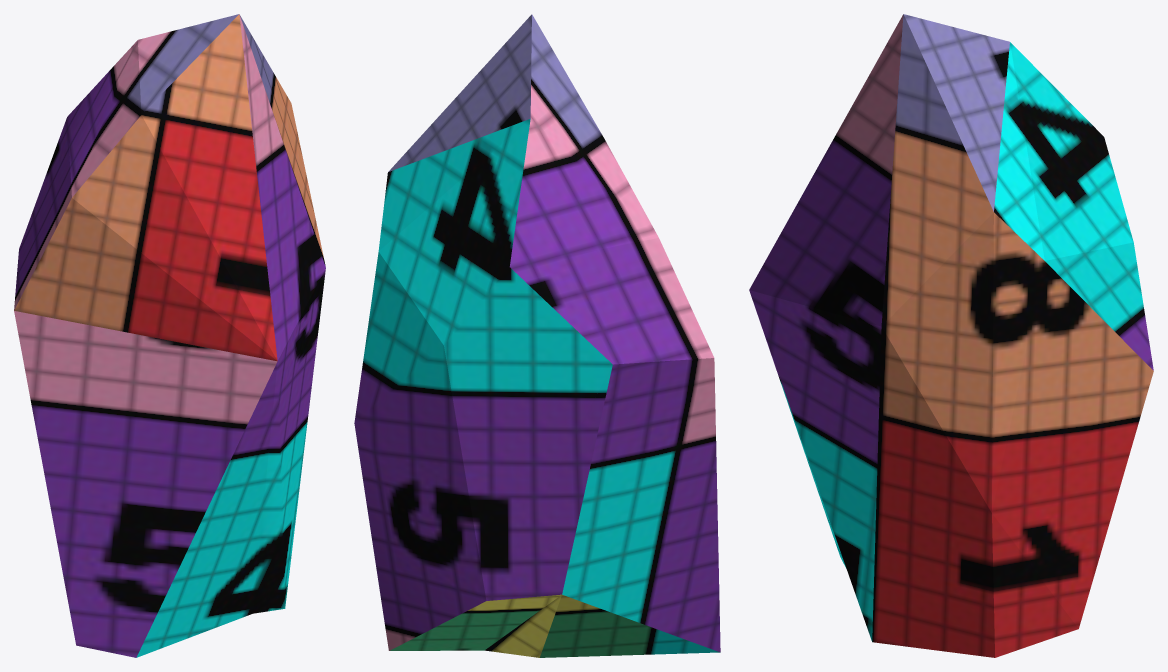
Rendered from lprock10.FBX.
3 views of the same model, side by side, from view 1: azimuth 30°, elevation 25°; view 2: azimuth 150°, elevation 25°; view 3: azimuth 270°, elevation 25° (orthographic). The views are drawn at different scales.
Visible parts, largest first — view 1: rock10; view 2: rock10; view 3: rock10.
Boxes of the visible parts, x1,y1,x2,y2 form: rock10: [14, 14, 325, 657]; rock10: [354, 14, 720, 657]; rock10: [749, 14, 1153, 657].
Size of the model in its own units: 90.73 by 167 by 100.
Materials: 1 (1 with a texture image).
